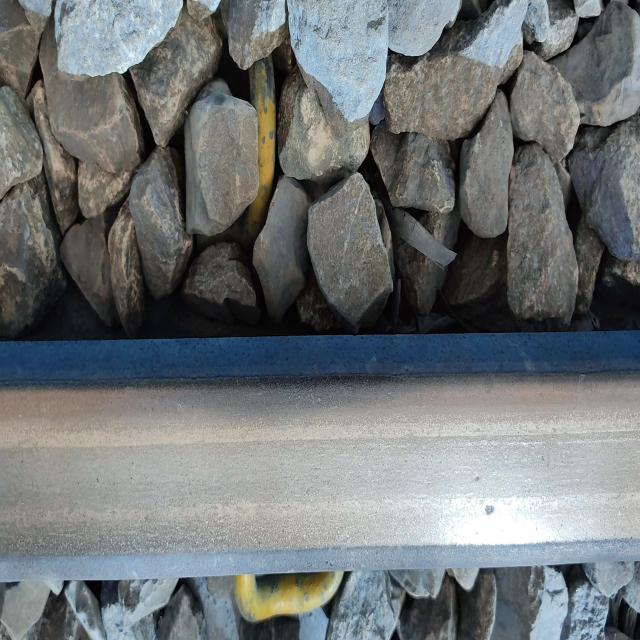Good Fasteners: (245, 56, 276, 237), (234, 571, 344, 622)
